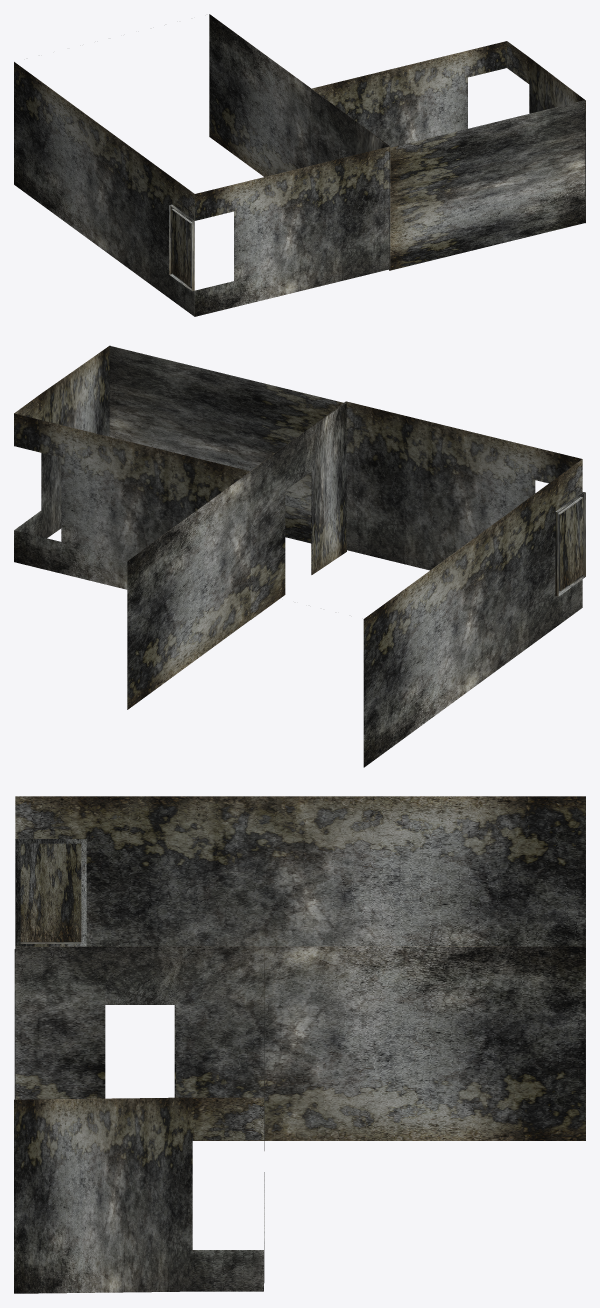
The model's file is MuroResto.fbx.
3 views of the same model, one above another, from view 1: azimuth 30°, elevation 25°; view 2: azimuth 150°, elevation 25°; view 3: azimuth 270°, elevation 25° (orthographic). The views are drawn at different scales.
Visible parts, largest first — view 1: MuroResto; view 2: MuroResto; view 3: MuroResto.
Boxes of the visible parts, box(x1,y1,x2,y2) form: MuroResto: box(14, 14, 585, 316); MuroResto: box(14, 345, 585, 767); MuroResto: box(14, 796, 585, 1293).
Bounding box in the file's own units: 1007 × 304 × 802.
1 material, 1 textured.
